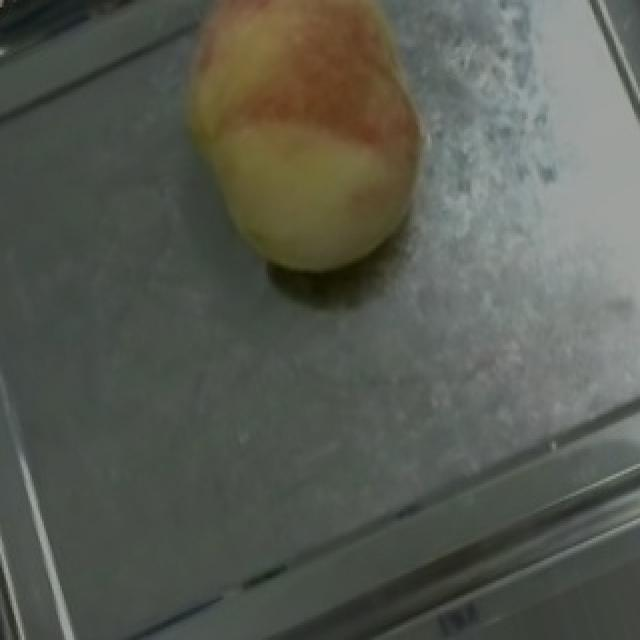Fruit: (136, 0, 464, 318)
